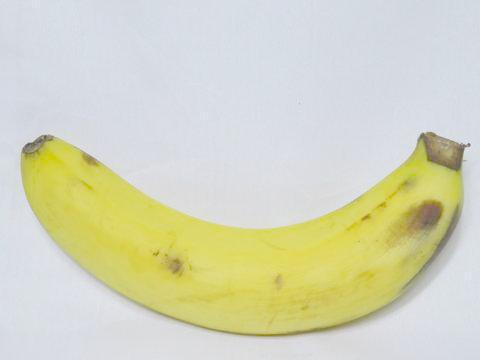freshripe: (3, 105, 479, 346)
